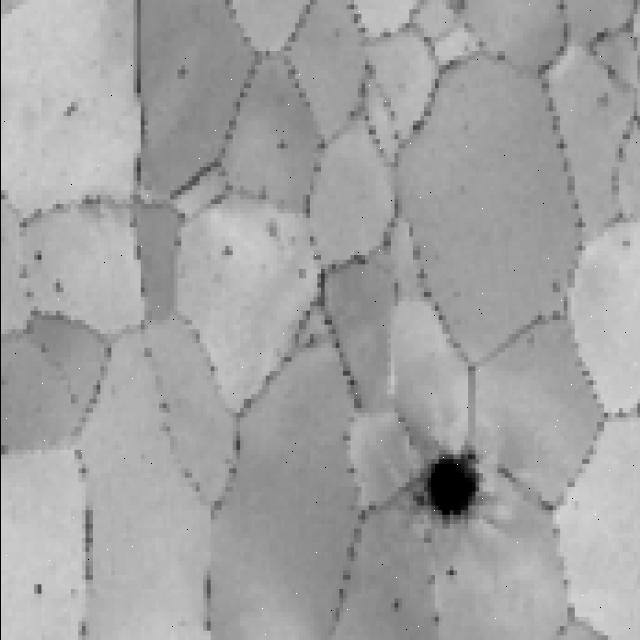good_void: (409, 445, 496, 534), (383, 587, 406, 615), (60, 97, 79, 125), (300, 330, 318, 357), (49, 275, 65, 298), (172, 64, 191, 83), (273, 134, 290, 152), (218, 242, 234, 260), (29, 578, 43, 598), (29, 248, 43, 268), (441, 565, 456, 580)
